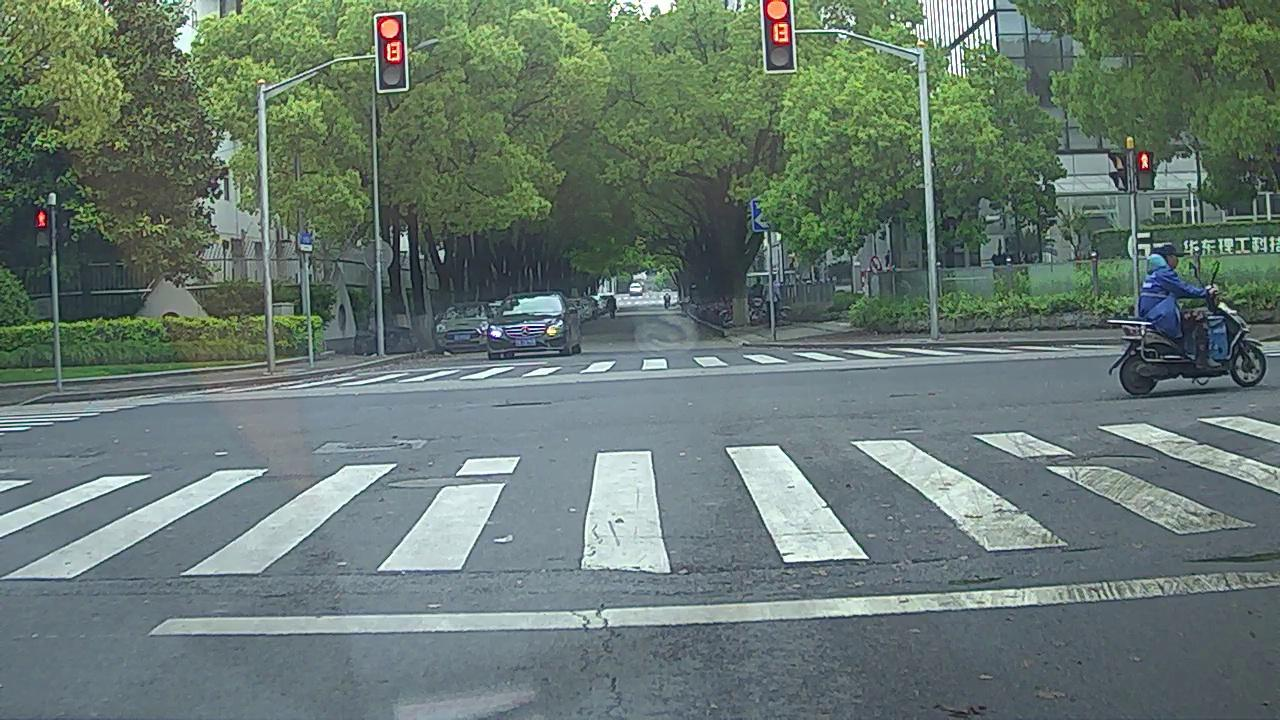traffic_light: (377, 11, 408, 91), (760, 1, 794, 70)
